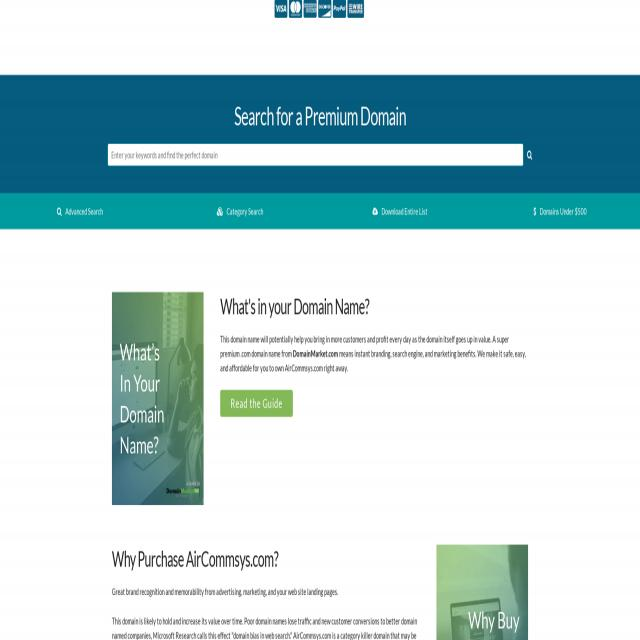button: (112, 292, 204, 506), (436, 544, 528, 640), (220, 390, 293, 417), (346, 0, 366, 21), (274, 0, 288, 21), (289, 0, 303, 21), (303, 0, 317, 21), (318, 0, 332, 21), (333, 0, 347, 21), (524, 145, 536, 169)
field: (108, 144, 523, 165)
